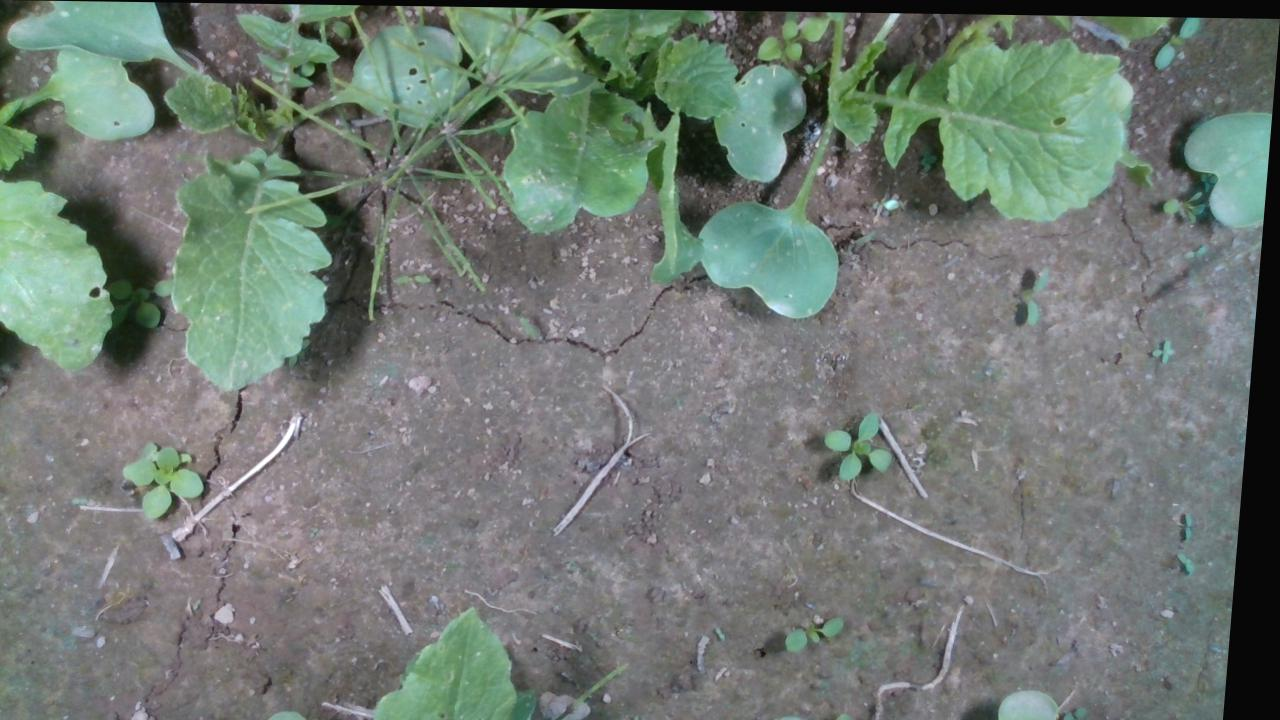weed: (790, 613, 857, 651)
